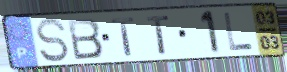1: (199, 9, 222, 56)
B: (65, 17, 105, 61)
L: (222, 11, 255, 52)
S: (33, 17, 72, 64)
T: (109, 15, 138, 57), (144, 14, 172, 56)
